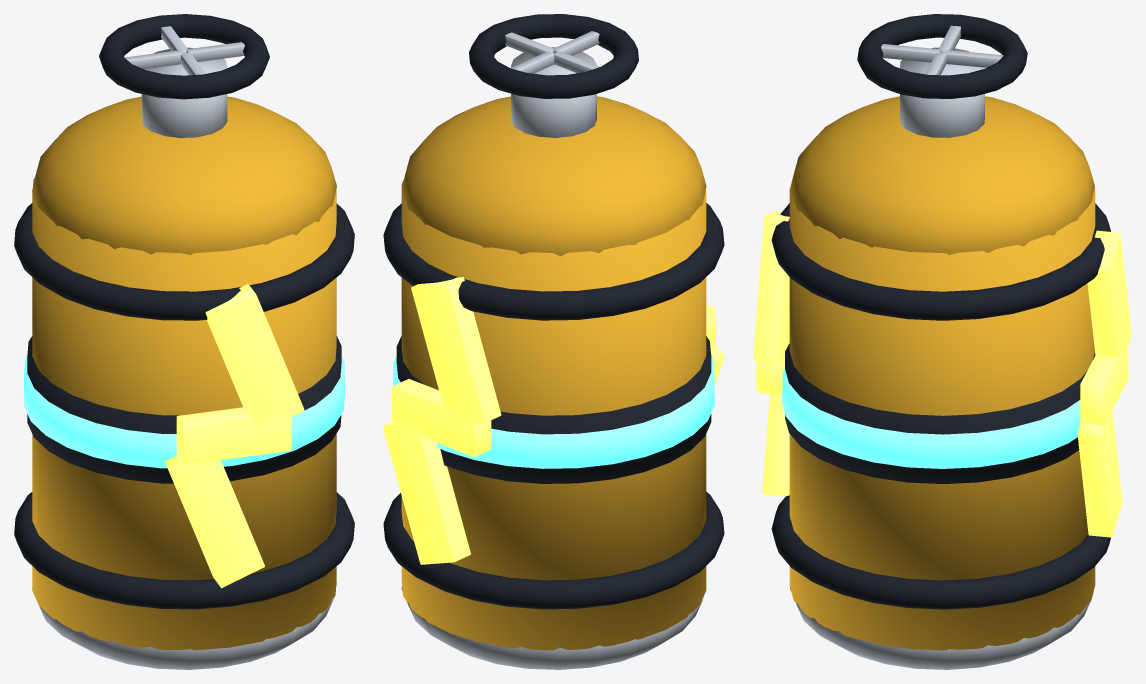
The model's file is pickup_boost.glb.
The picture shows the model from 3 angles, left to right: view 1: azimuth 30°, elevation 25°; view 2: azimuth 150°, elevation 25°; view 3: azimuth 270°, elevation 25°; orthographic projection.
Parts seen in each view (by area): view 1: PickupBoost; view 2: PickupBoost; view 3: PickupBoost.
Boxes of the visible parts, x1,y1,x2,y2 form: PickupBoost: (14,14,354,669); PickupBoost: (383,14,724,669); PickupBoost: (753,14,1131,669).
Bounding box in the file's own units: 1.03 × 1.98 × 1.14.
